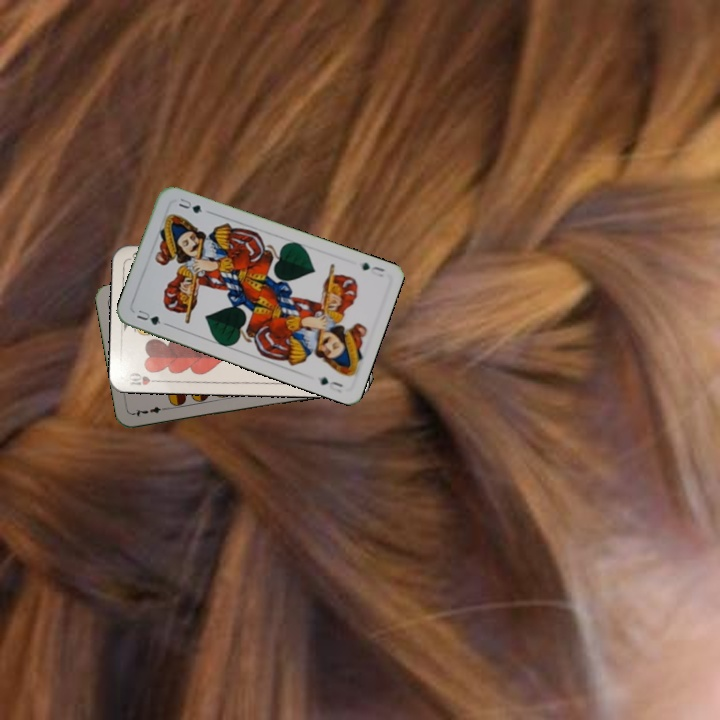E7: (130, 403, 170, 419)
GU: (133, 306, 163, 328), (358, 258, 388, 280)
H10: (125, 368, 164, 388)
